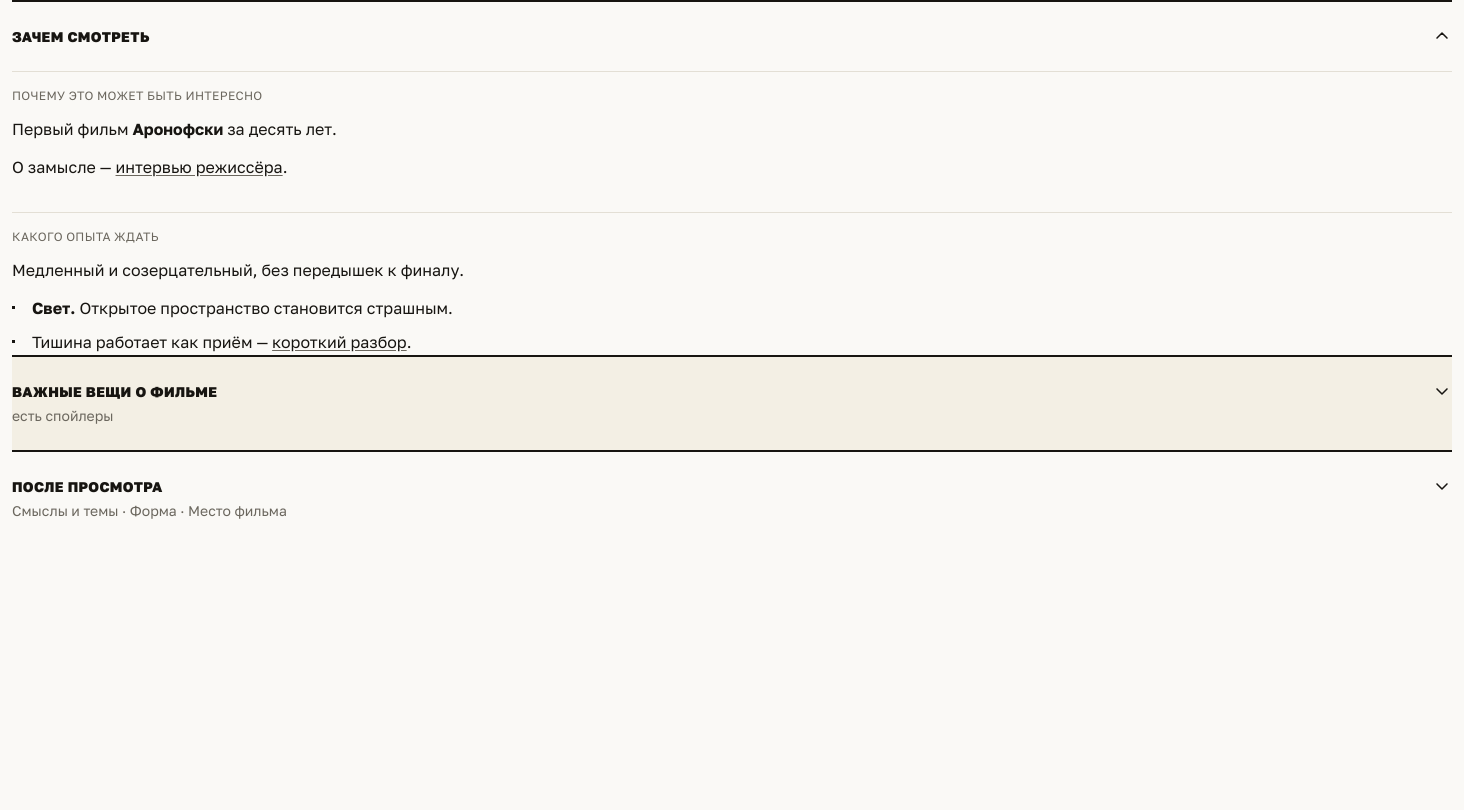
Test: Правило раскрытия полос (v15, критерий 4) › полоса ключей раскрывается щелчком, как соседние
The width and height of the screenshot is (1464, 810).
Click the button "Важные вещи о фильме есть спойлеры". click: [115, 392]
box: [12,377,1452,426]
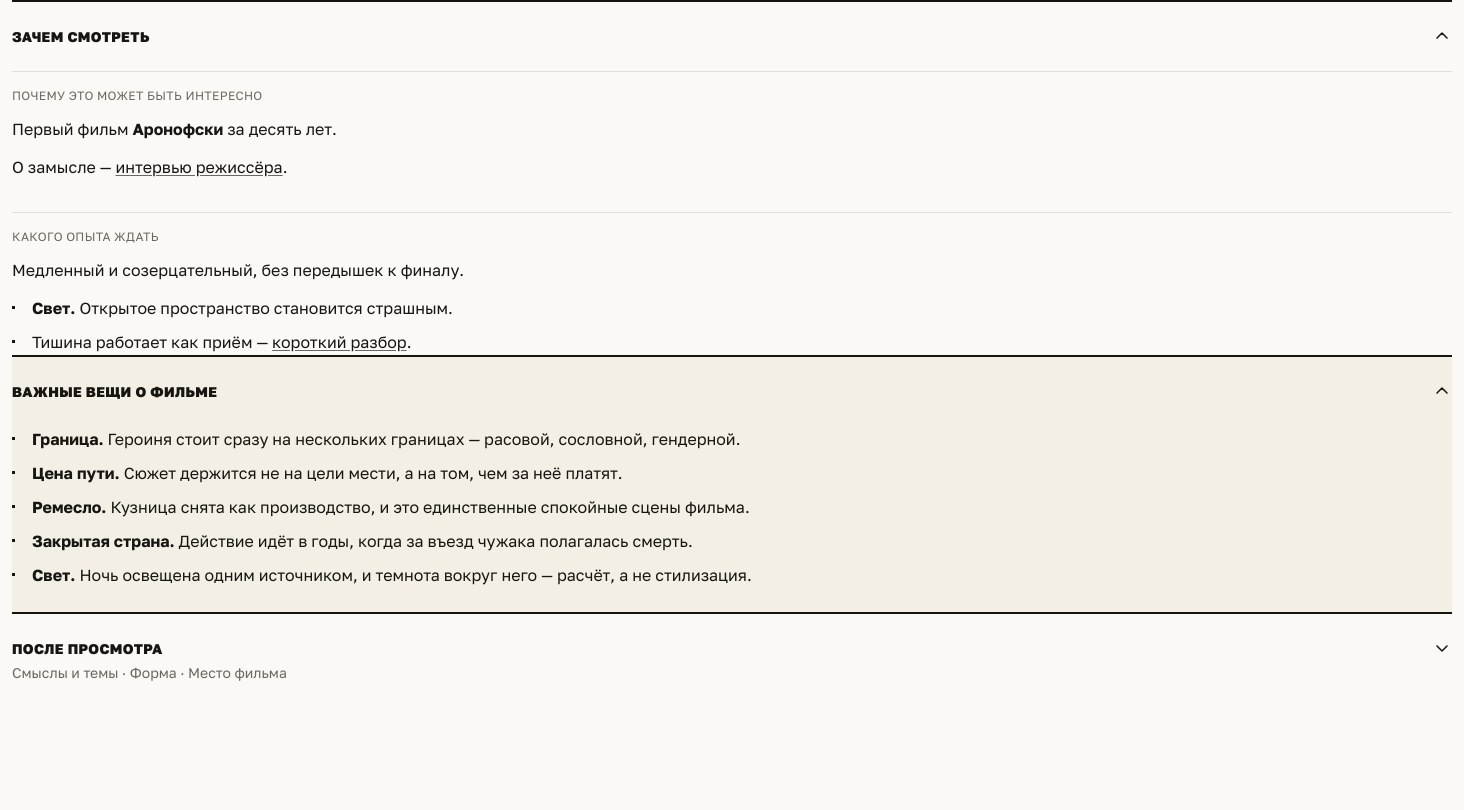
Now the button "Важные вещи о фильме" is expanded, box [12,377,1452,402]
Now the text "Героиня стоит сразу на нескольких границах" is shown, box [104,429,740,449]
